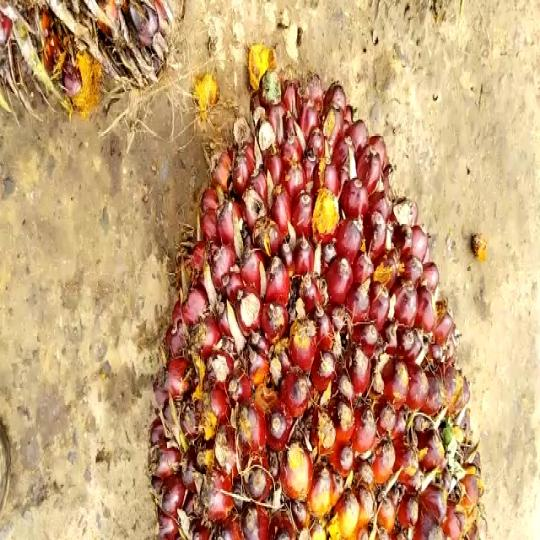kurang masak: (157, 62, 466, 540)
